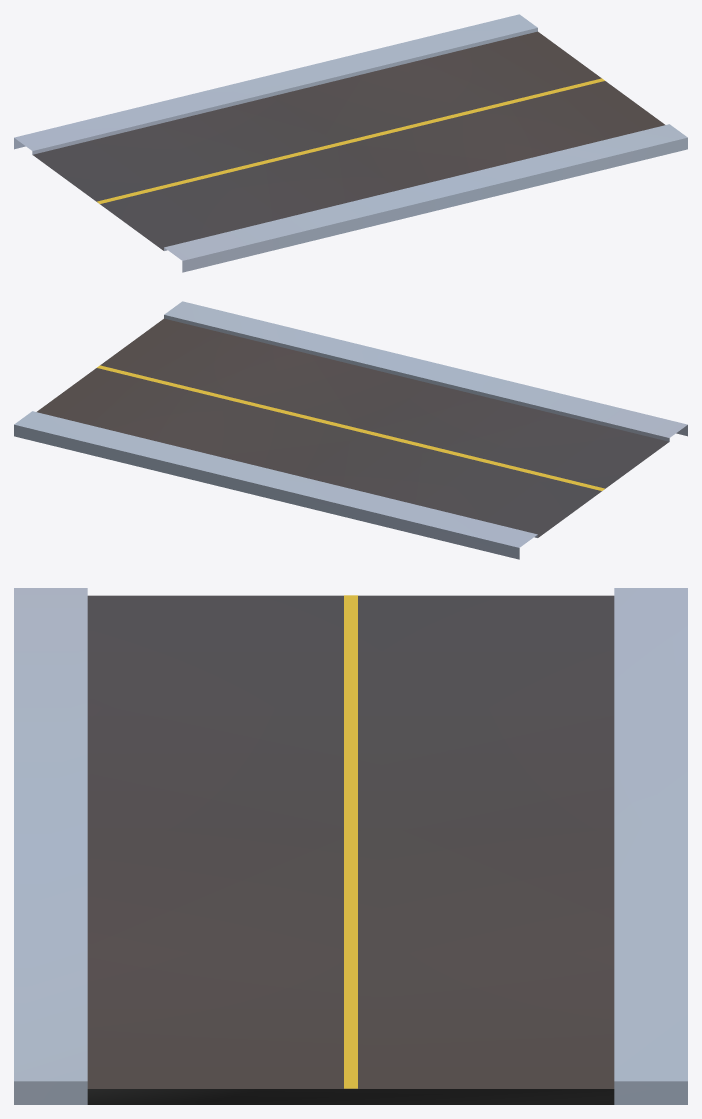
The model's file is road3.fbx.
3 renders of one model, top to bottom at view 1: azimuth 30°, elevation 25°; view 2: azimuth 150°, elevation 25°; view 3: azimuth 270°, elevation 25°, orthographic. The views are drawn at different scales.
Parts seen in each view (by area): view 1: Roads.3; view 2: Roads.3; view 3: Roads.3.
Part boxes in pixels (bbox=[...]): Roads.3: bbox=[14, 14, 687, 272]; Roads.3: bbox=[14, 301, 687, 559]; Roads.3: bbox=[14, 588, 687, 1104].
Bounding box in the file's own units: 843 × 18.71 × 487.
